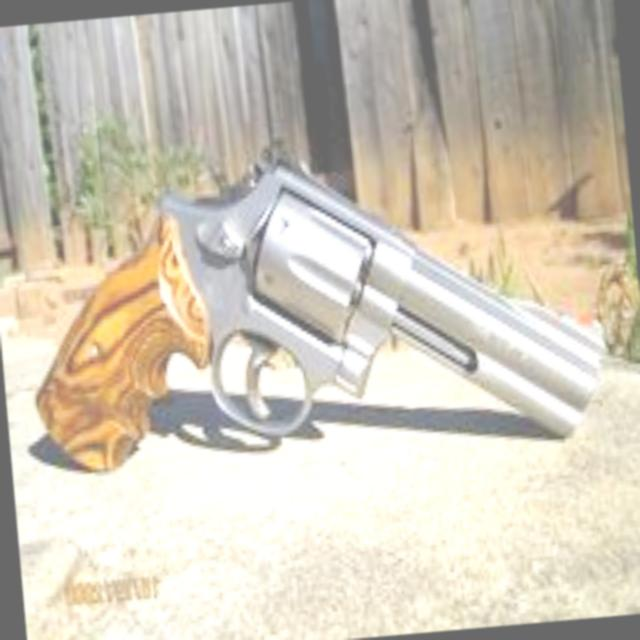revolver: (0, 113, 640, 498)
